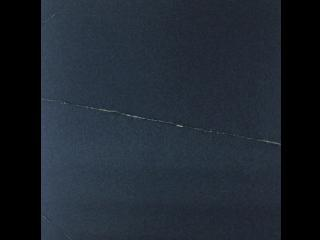crack: (40, 96, 284, 148)
